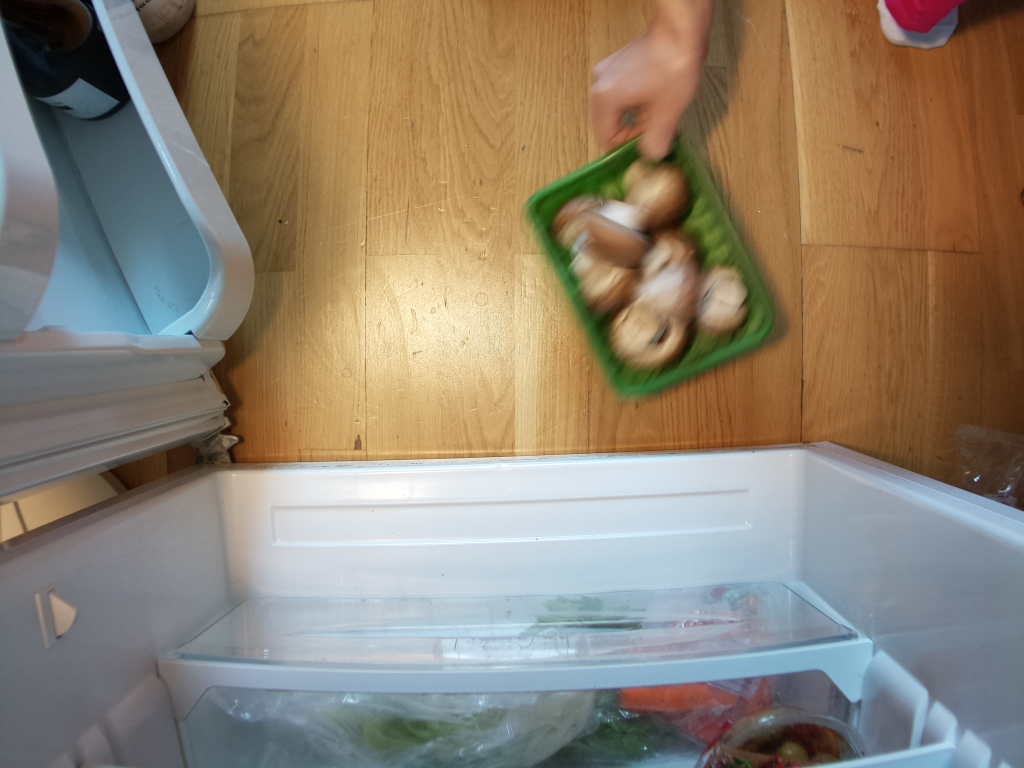mushrooms: (527, 125, 785, 404)
